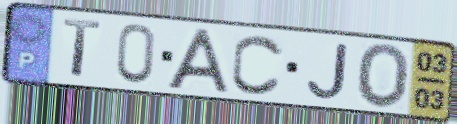0: (115, 22, 159, 86)
A: (163, 26, 232, 96)
C: (229, 32, 286, 98)
J: (304, 40, 353, 102)
O: (356, 41, 413, 111)
T: (61, 16, 104, 81)
